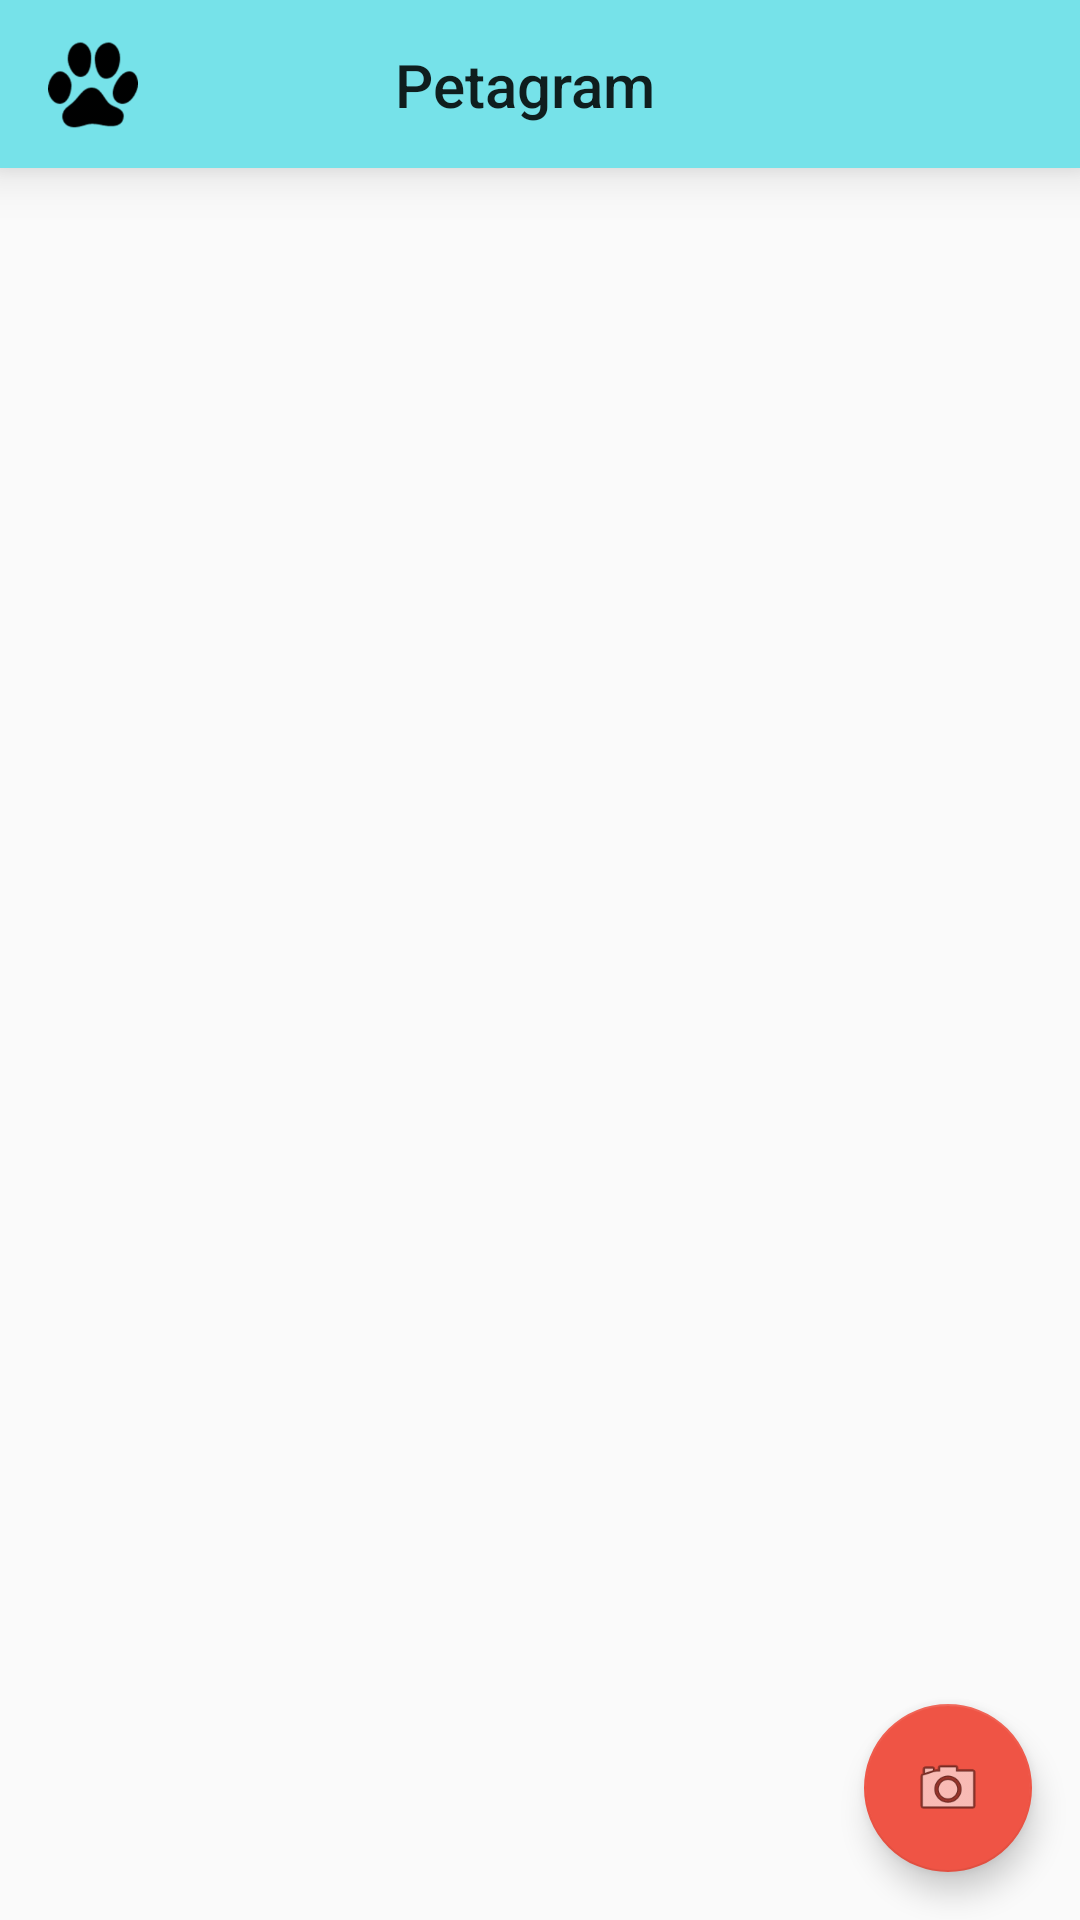

Locate icon controls on the screen. Image size 1080 × 1920, boxes as bbox=[x1, y1, x2, y2].
camera: bbox=[864, 1704, 1032, 1872]
paw: bbox=[48, 42, 138, 128]
